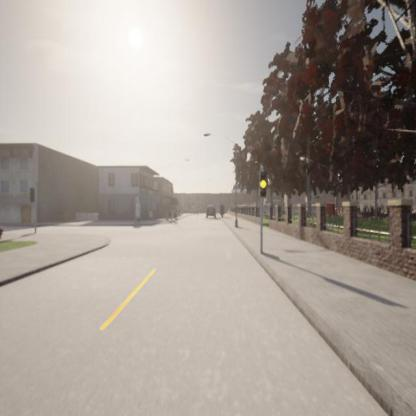traffic_light_orange: (258, 170, 266, 198)
